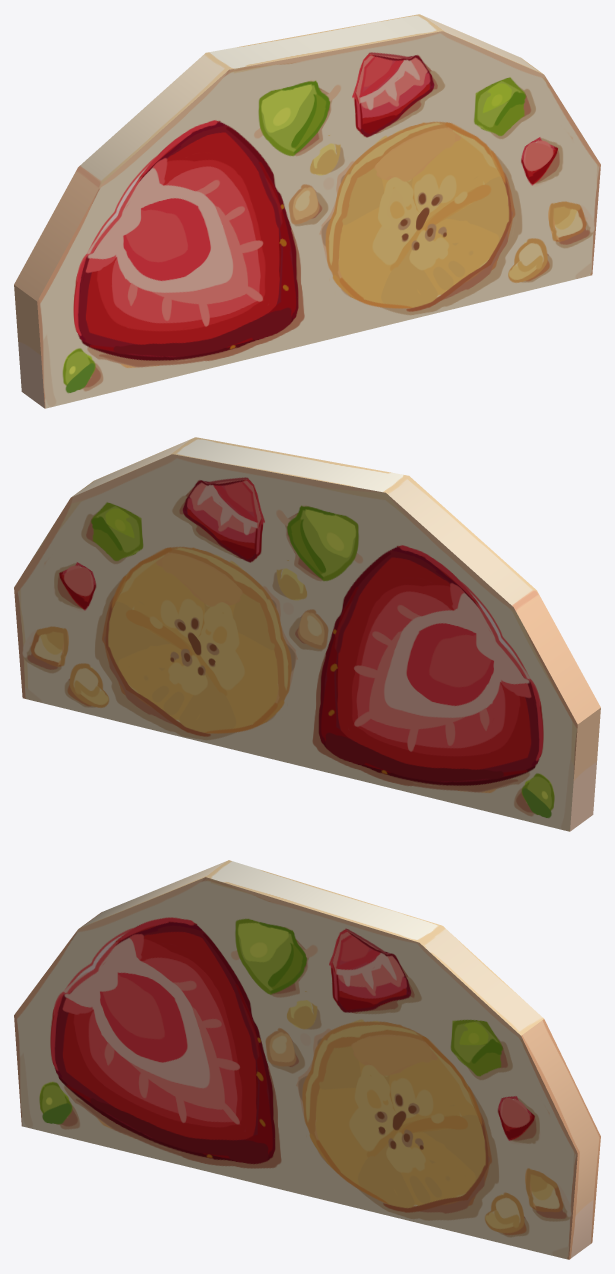
The model's file is orange1.fbx.
The picture shows the model from 3 angles, top to bottom: view 1: azimuth 30°, elevation 25°; view 2: azimuth 150°, elevation 25°; view 3: azimuth 330°, elevation 25°; orthographic projection.
Visible parts, largest first — view 1: Box001; view 2: Box001; view 3: Box001.
Part boxes in pixels (left/top/right/bottom): Box001: left=14, top=14, right=600, bottom=408; Box001: left=14, top=437, right=600, bottom=831; Box001: left=14, top=860, right=600, bottom=1259.
Bounding box in the file's own units: 109 × 54.17 × 7.75.
Materials: 1 (1 with a texture image).
